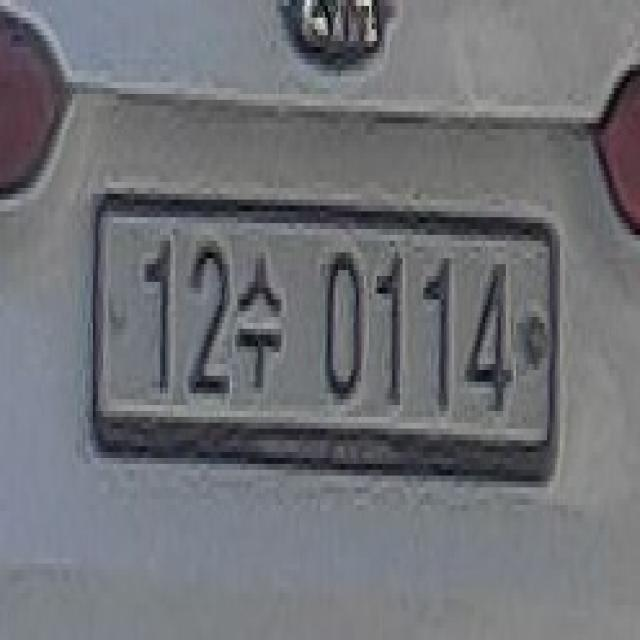0: (315, 235, 364, 405)
1: (418, 241, 459, 428), (134, 229, 178, 399), (369, 252, 408, 417)
2: (183, 235, 235, 405)
4: (462, 252, 519, 428)
license_plate: (80, 164, 563, 511)
su: (235, 241, 297, 393)
